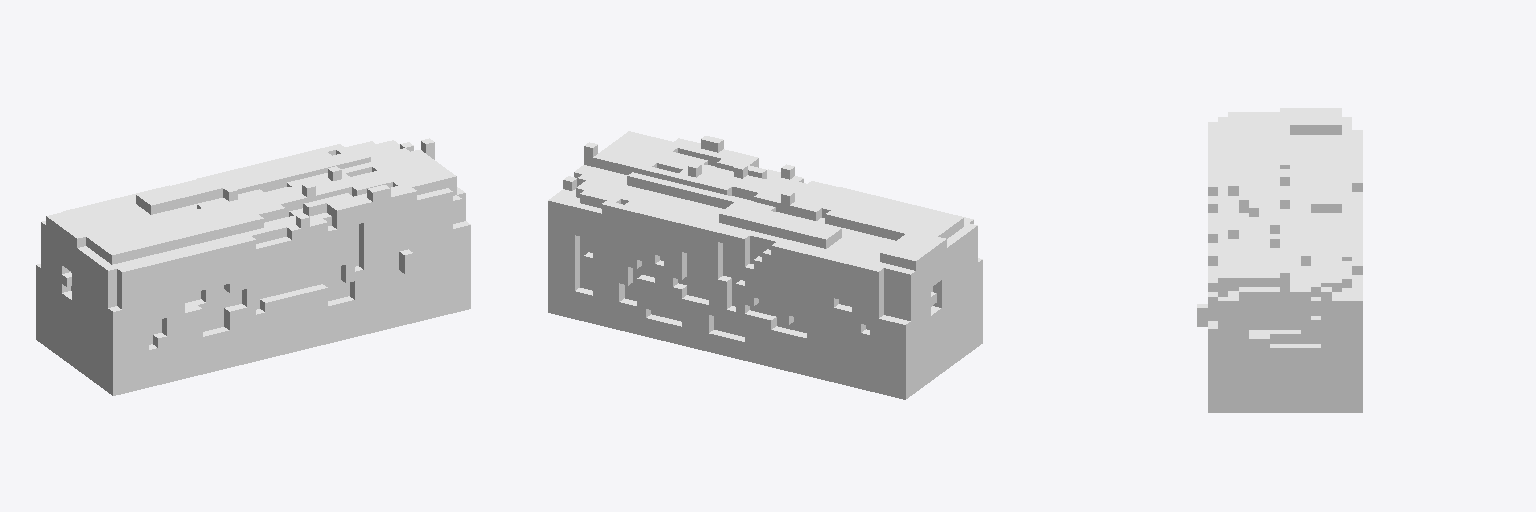
Rendered from newall4-0-newal1.obj.
3 views of the same model, side by side, from view 1: azimuth 30°, elevation 25°; view 2: azimuth 150°, elevation 25°; view 3: azimuth 270°, elevation 25° (orthographic).
Parts seen in each view (by area): view 1: newal1; view 2: newal1; view 3: newal1.
Boxes of the visible parts, x1,y1,x2,y2 form: newal1: [36, 138, 470, 395]; newal1: [548, 131, 982, 399]; newal1: [1197, 108, 1362, 412].
Size of the model in its own units: 4 by 1.5 by 1.6.